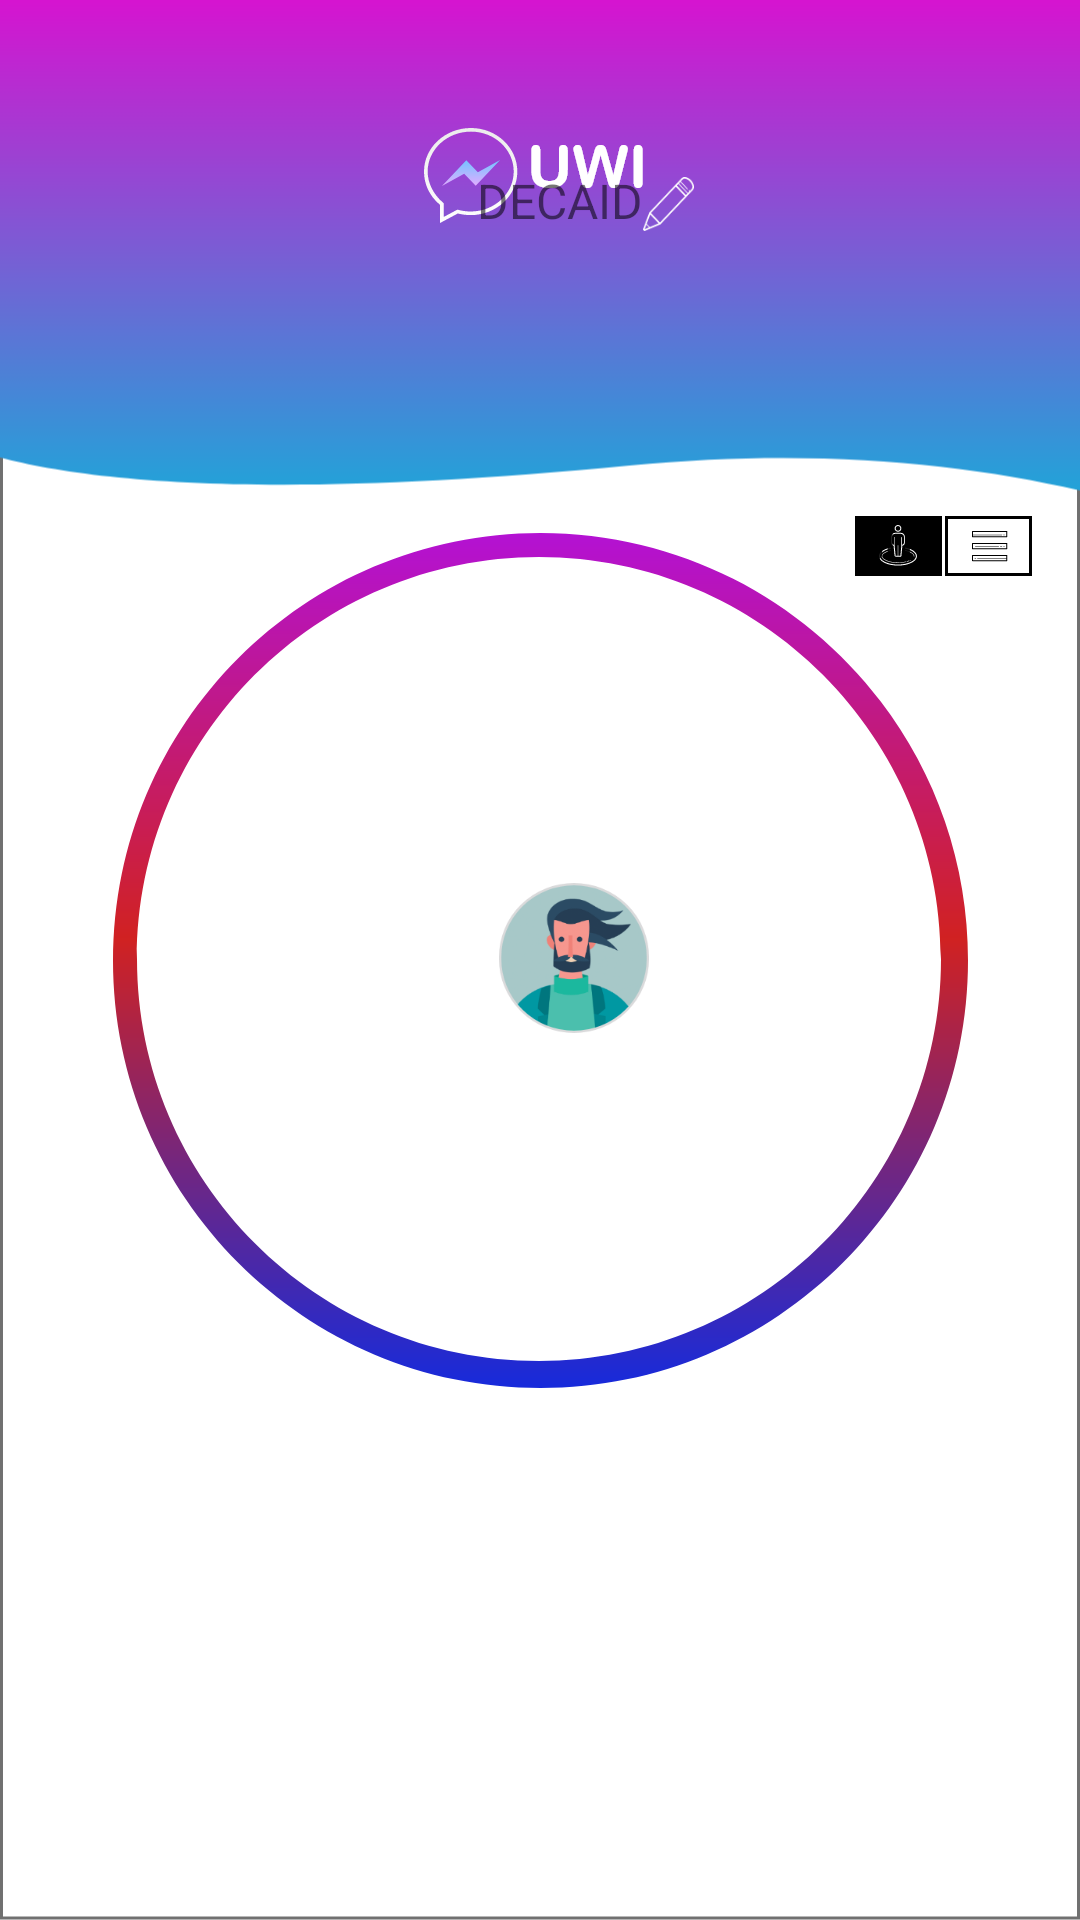

Where icons sit on this 1080px x 1920px app screen, as rect(x1, y1, x2, y2):
edit: rect(643, 177, 694, 231)
show list: rect(945, 516, 1032, 576)
